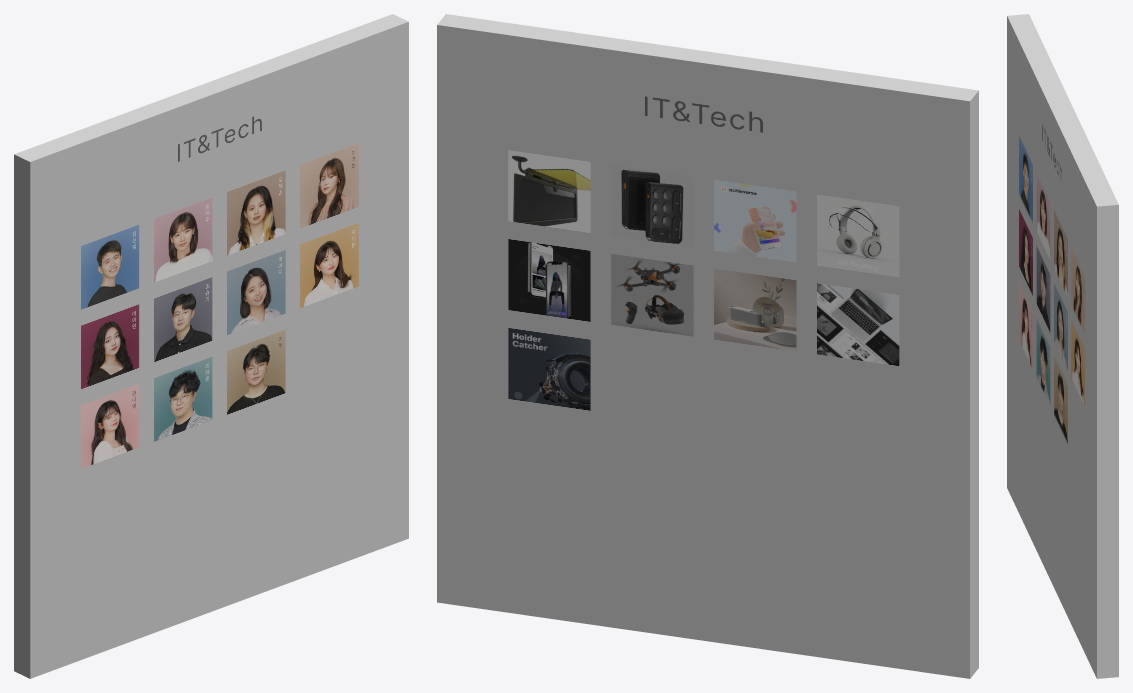
3 renders of one model, left to right at view 1: azimuth 30°, elevation 25°; view 2: azimuth 150°, elevation 25°; view 3: azimuth 270°, elevation 25°, orthographic. The views are drawn at different scales.
Visible parts, largest first — view 1: Cylinder.024; view 2: Cylinder.024; view 3: Cylinder.024.
Boxes of the visible parts, x1,y1,x2,y2 form: Cylinder.024: [14, 14, 408, 678]; Cylinder.024: [437, 14, 978, 678]; Cylinder.024: [1007, 14, 1118, 678].
Size of the model in its own units: 6.13 by 7 by 1.5.
Materials: 3 (2 with a texture image).
